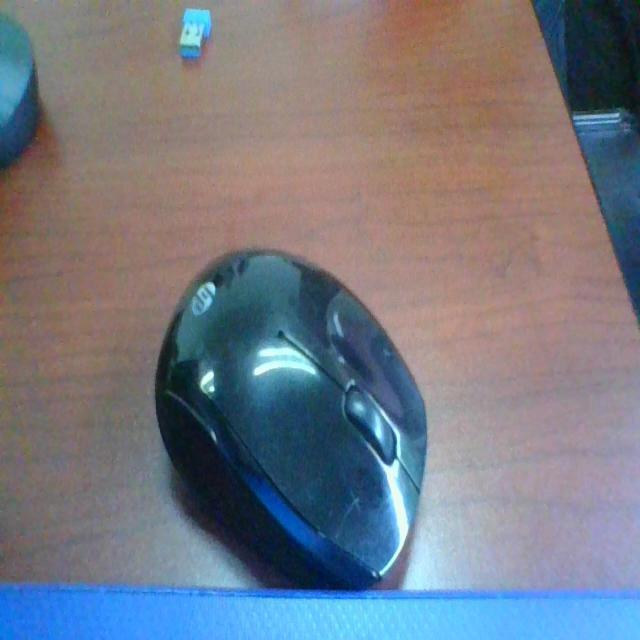Mouse: (125, 176, 475, 598)
